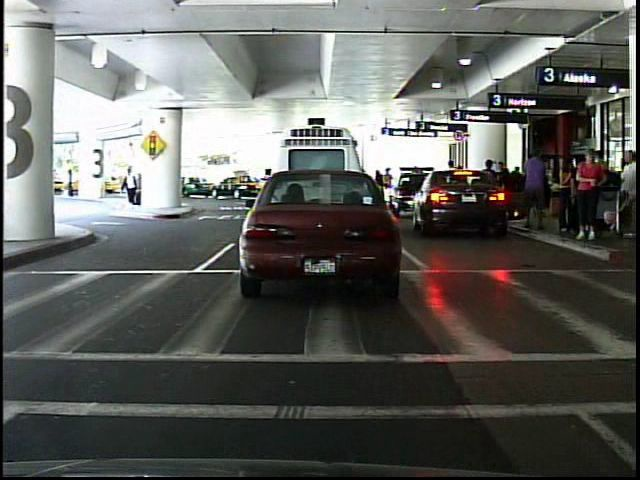person: (573, 145, 609, 247), (117, 160, 148, 210), (65, 163, 80, 202)
